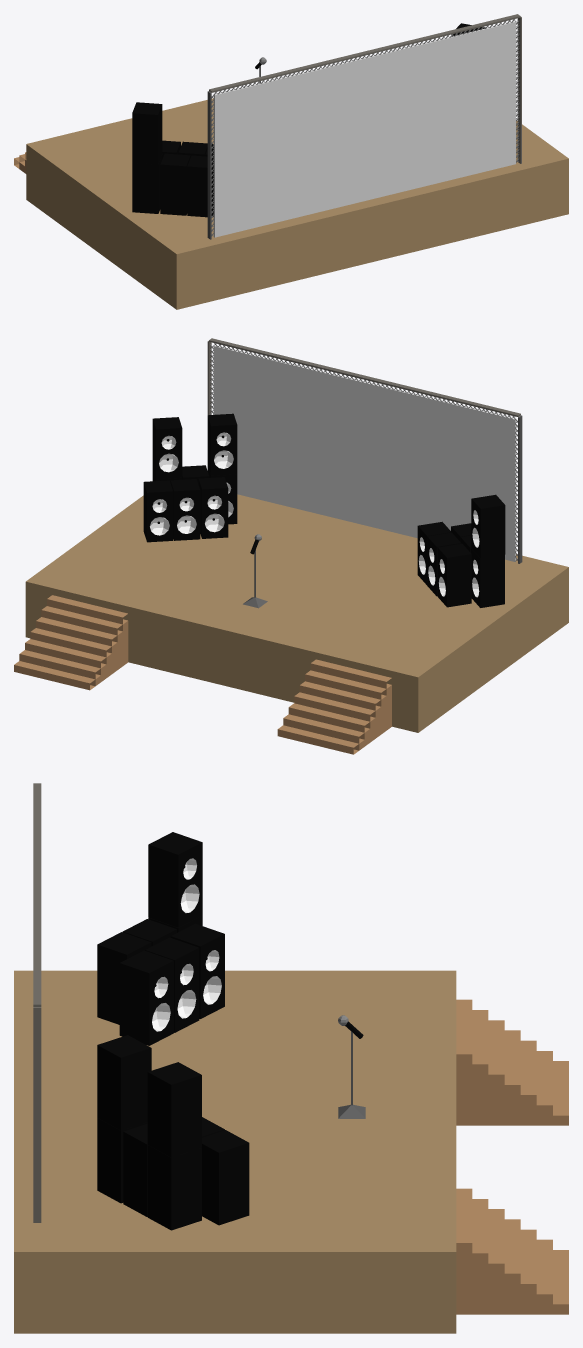
The model's file is Stage.fbx.
3 views of the same model, one above another, from view 1: azimuth 30°, elevation 25°; view 2: azimuth 150°, elevation 25°; view 3: azimuth 270°, elevation 25° (orthographic). The views are drawn at different scales.
Visible parts, largest first — view 1: Main Stage, Stage Backround, Speaker.009, Speaker.011, Curtain Frame.002, Speaker.012, Speaker.010, Curtain Frame.001, Curtain Support.002, Curtain Frame, Curtain Support.001; view 2: Main Stage, Stage Backround, Stage Stairs, Stage Chairs, Speaker.009, Speaker.013, Speaker.008, Speaker, Speaker.006, Speaker.002, Speaker.001, Speaker.012 (+6 smaller); view 3: Main Stage, Stage Stairs, Stage Chairs, Speaker.006, Speaker.009, Speaker.015, Speaker.008, Speaker, Speaker.005, Speaker.013, Speaker.014, Speaker.010 (+5 smaller).
Boxes of the visible parts, left/top/right/bottom form: Main Stage: left=26, top=98, right=568, bottom=309; Stage Backround: left=214, top=21, right=515, bottom=237; Speaker.009: left=132, top=102, right=162, bottom=164; Speaker.011: left=160, top=153, right=190, bottom=215; Curtain Frame.002: left=209, top=14, right=520, bottom=92; Speaker.012: left=132, top=154, right=162, bottom=213; Speaker.010: left=187, top=155, right=213, bottom=217; Curtain Frame.001: left=207, top=91, right=211, bottom=239; Curtain Support.002: left=213, top=19, right=516, bottom=94; Curtain Frame: left=517, top=17, right=521, bottom=163; Curtain Support.001: left=516, top=20, right=519, bottom=162; Main Stage: left=25, top=494, right=568, bottom=732; Stage Backround: left=213, top=345, right=515, bottom=561; Stage Stairs: left=14, top=595, right=128, bottom=690; Stage Chairs: left=277, top=659, right=391, bottom=754; Speaker.009: left=471, top=494, right=505, bottom=558; Speaker.013: left=437, top=543, right=471, bottom=607; Speaker.008: left=207, top=413, right=237, bottom=475; Speaker: left=143, top=480, right=173, bottom=542; Speaker.006: left=152, top=417, right=182, bottom=479; Speaker.002: left=198, top=477, right=228, bottom=538; Speaker.001: left=170, top=479, right=200, bottom=540; Speaker.012: left=471, top=548, right=504, bottom=607; Main Stage: left=14, top=970, right=456, bottom=1333; Stage Stairs: left=456, top=1188, right=568, bottom=1314; Stage Chairs: left=456, top=999, right=568, bottom=1125; Speaker.006: left=147, top=1062, right=201, bottom=1157; Speaker.009: left=148, top=832, right=202, bottom=927; Speaker.015: left=119, top=950, right=173, bottom=1045; Speaker.008: left=97, top=1035, right=151, bottom=1130; Speaker: left=202, top=1130, right=249, bottom=1225; Speaker.005: left=147, top=1145, right=201, bottom=1230; Speaker.013: left=170, top=923, right=224, bottom=1018; Speaker.014: left=145, top=937, right=199, bottom=1032; Speaker.010: left=97, top=932, right=151, bottom=1024.
Bounding box in the file's own units: 1033 × 512 × 861.
